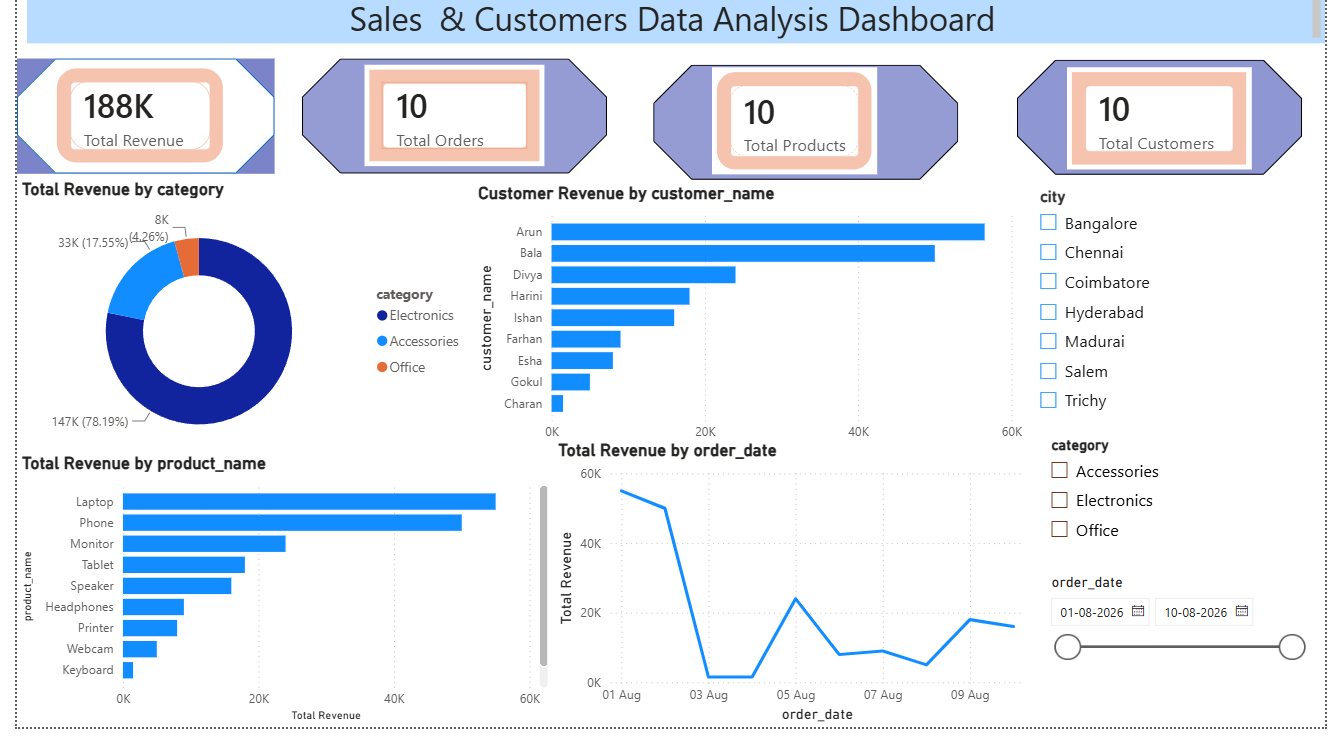

What the dashboard file says about the page in this screenshot:
{"tool":"powerbi","page":{"name":"Page 1","canvas":[1280,720],"ordinal":0},"visuals":[{"type":"textbox","box":[9.8,0,1270.5,51.4],"z":0},{"type":"shape","box":[0,66,251.9,112.5],"z":1000},{"type":"cardVisual","fields":{"Data":["customers.Total Revenue"]},"box":[34.2,70.9,172.4,102.7],"z":2000},{"type":"shape","box":[622.4,72.1,298.4,112.5],"z":5000},{"type":"shape","box":[978.3,67.3,278.8,112.5],"z":6000},{"type":"cardVisual","fields":{"Data":["customers.Total Products"]},"box":[679.9,74.6,161.4,105.2],"z":7000},{"type":"cardVisual","fields":{"Data":["customers.Total Customers"]},"box":[1027.2,74.6,181,100.3],"z":8000},{"type":"donutChart","fields":{"Category":["products.category"],"Y":["customers.Total Revenue"]},"box":[0,183.4,446.3,280],"z":9000},{"type":"clusteredBarChart","fields":{"Category":["customers.customer_name"],"Y":["customers.Customer Revenue"]},"box":[446.3,187.1,541.7,276.4],"z":10000},{"type":"barChart","fields":{"Category":["products.product_name"],"Y":["customers.Total Revenue"]},"box":[0,451.2,524.6,269],"z":11000},{"type":"lineChart","fields":{"Y":["customers.Total Revenue"],"Category":["orders.order_date"]},"box":[524.6,439,474.5,281.3],"z":12000},{"type":"slicer","fields":{"Values":["customers.city"]},"box":[988,187.1,280,236],"z":13000},{"type":"slicer","fields":{"Values":["products.category"]},"box":[999.1,430.4,269,134.5],"z":14000},{"type":"slicer","fields":{"Values":["orders.order_date"]},"box":[999.1,564.9,269,155.3],"z":15000},{"type":"shape","box":[278.8,66,298.4,112.5],"z":15001},{"type":"cardVisual","fields":{"Data":["customers.Total Orders"]},"box":[339.9,72.1,176.1,99],"z":15002}]}

Visuals, with their boxes in screenshot pixels (x1, y1, x2, y2), scaled from the page's 1280x720 canvas onto the 1338x736 screenshot:
textbox: rect(10, 0, 1337, 53)
shape: rect(0, 67, 263, 182)
cardVisual - customers.Total Revenue: rect(36, 72, 216, 177)
shape: rect(651, 74, 963, 189)
shape: rect(1023, 69, 1314, 184)
cardVisual - customers.Total Products: rect(711, 76, 879, 184)
cardVisual - customers.Total Customers: rect(1074, 76, 1263, 179)
donutChart - products.category x customers.Total Revenue: rect(0, 187, 467, 474)
clusteredBarChart - customers.customer_name x customers.Customer Revenue: rect(467, 191, 1033, 474)
barChart - products.product_name x customers.Total Revenue: rect(0, 461, 548, 735)
lineChart - customers.Total Revenue x orders.order_date: rect(548, 449, 1044, 735)
slicer - customers.city: rect(1033, 191, 1325, 433)
slicer - products.category: rect(1044, 440, 1326, 577)
slicer - orders.order_date: rect(1044, 577, 1326, 735)
shape: rect(291, 67, 603, 182)
cardVisual - customers.Total Orders: rect(355, 74, 539, 175)
